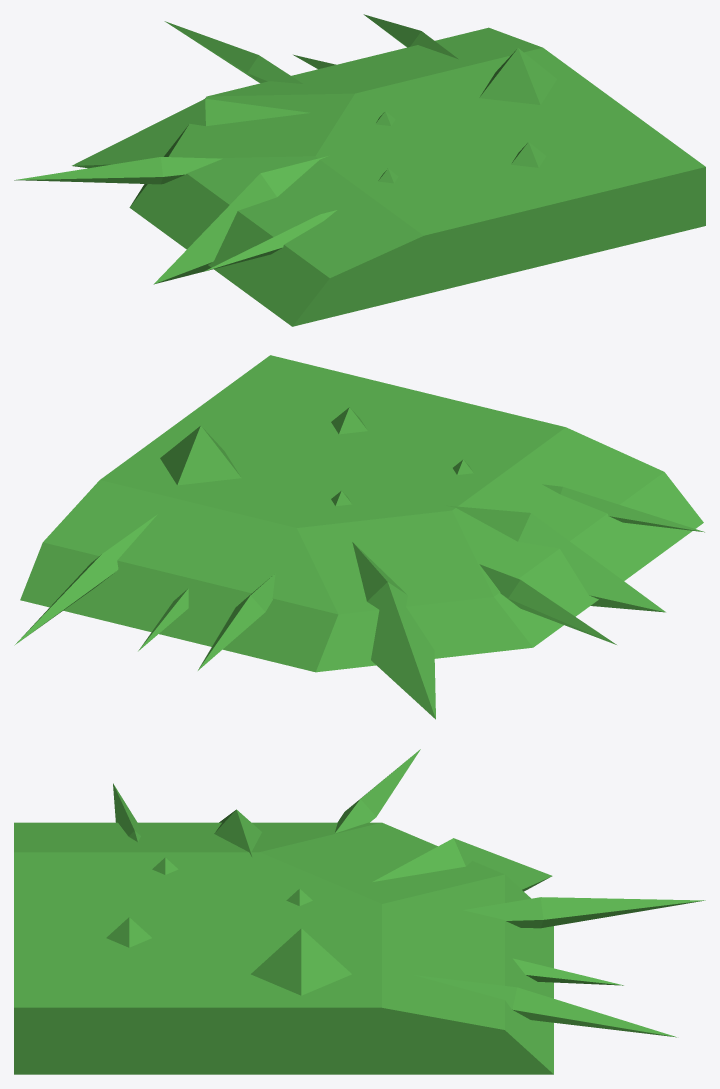
Rendered from Floor-Outdoor-2x2x1-Grass-Corner-Convex.FBX.
3 renders of one model, top to bottom at view 1: azimuth 30°, elevation 25°; view 2: azimuth 150°, elevation 25°; view 3: azimuth 270°, elevation 25°, orthographic. The views are drawn at different scales.
Visible parts, largest first — view 1: Floor-Outdoor-2x2x1-Grass-Corner-Convex; view 2: Floor-Outdoor-2x2x1-Grass-Corner-Convex; view 3: Floor-Outdoor-2x2x1-Grass-Corner-Convex.
Boxes of the visible parts, box(x1,y1,x2,y2) form: Floor-Outdoor-2x2x1-Grass-Corner-Convex: box(14, 14, 705, 326); Floor-Outdoor-2x2x1-Grass-Corner-Convex: box(14, 355, 704, 719); Floor-Outdoor-2x2x1-Grass-Corner-Convex: box(14, 749, 705, 1074).
Bounding box in the file's own units: 27.22 × 6.35 × 28.2.
